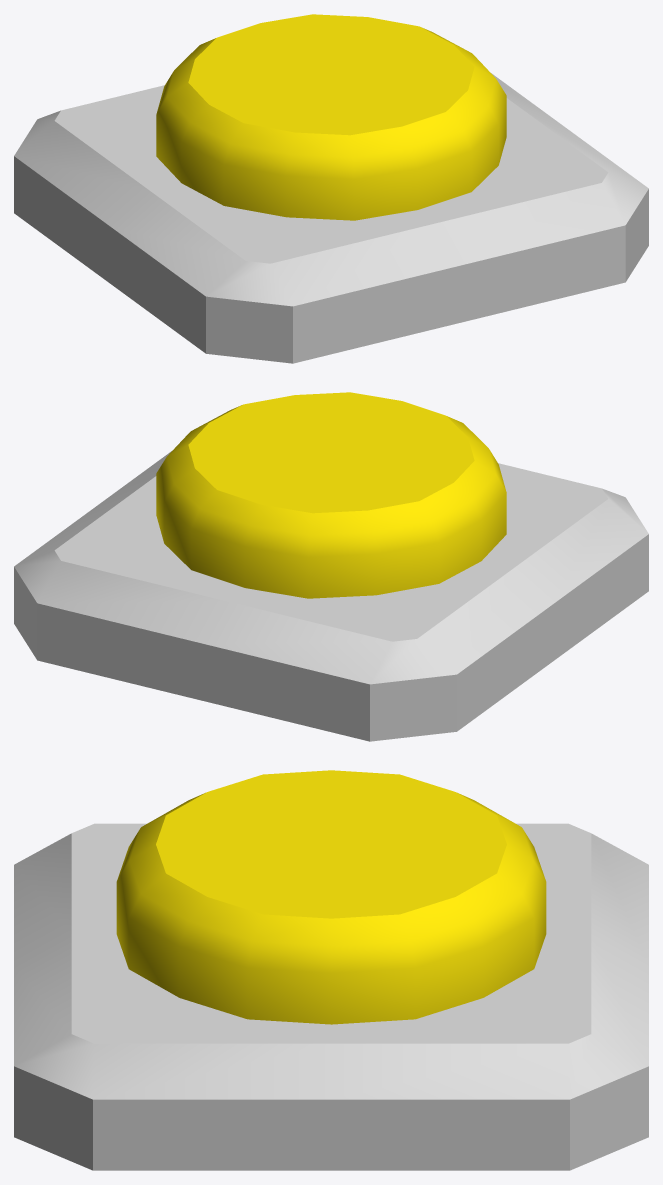
The model's file is LED_3_Yellow.fbx.
3 views of the same model, one above another, from view 1: azimuth 30°, elevation 25°; view 2: azimuth 150°, elevation 25°; view 3: azimuth 270°, elevation 25° (orthographic). The views are drawn at different scales.
Visible parts, largest first — view 1: LED_3_Yellow; view 2: LED_3_Yellow; view 3: LED_3_Yellow.
Part boxes in pixels (x1,y1,x2,y2): LED_3_Yellow: (14, 14, 648, 363); LED_3_Yellow: (14, 392, 648, 741); LED_3_Yellow: (14, 770, 648, 1170).
Bounding box in the file's own units: 29.08 × 9.7 × 29.08.
